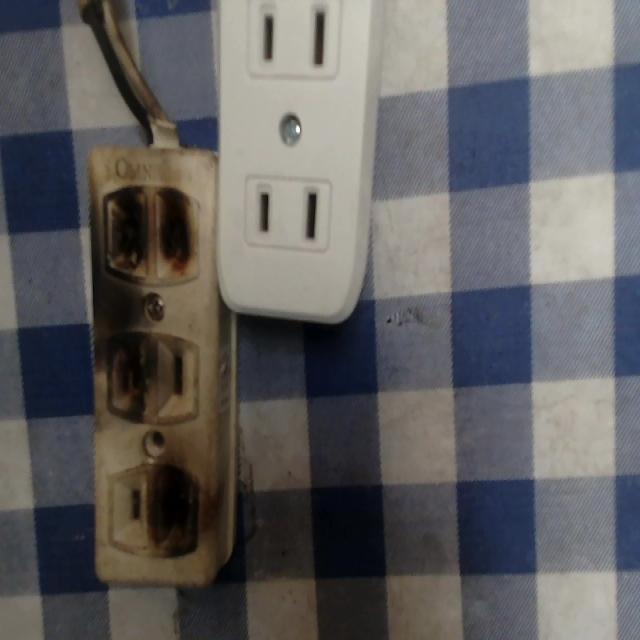-: (99, 181, 206, 291), (100, 328, 159, 421), (148, 462, 203, 558)
